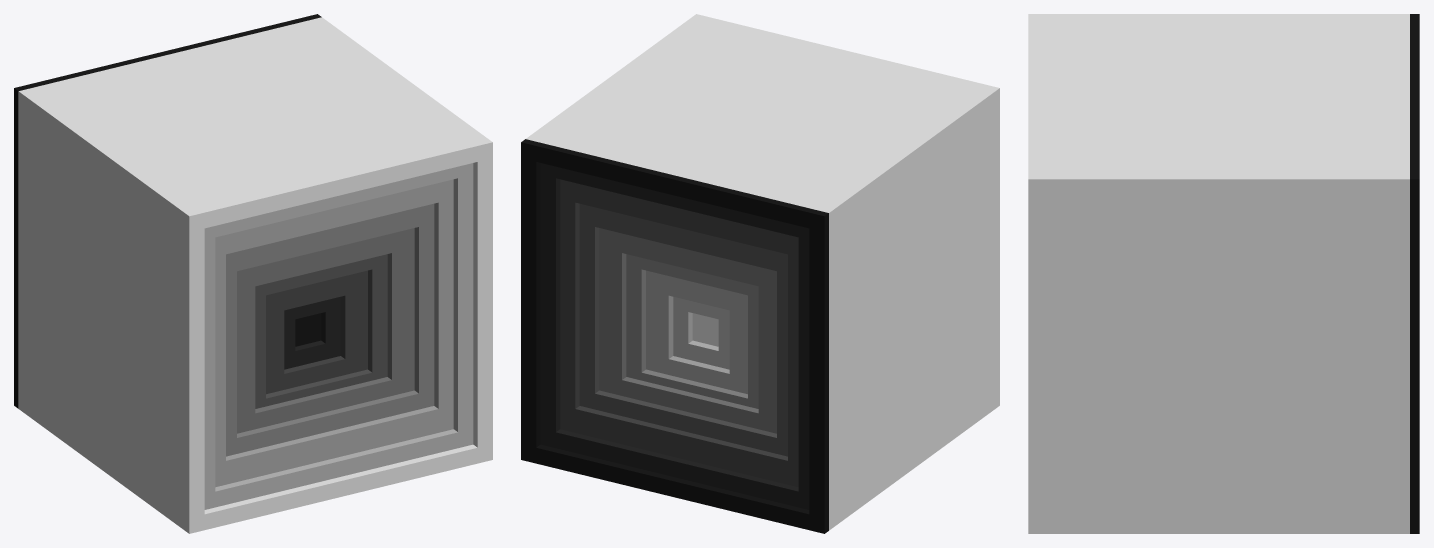
The model's file is MuroTrallao.FBX.
3 views of the same model, side by side, from view 1: azimuth 30°, elevation 25°; view 2: azimuth 150°, elevation 25°; view 3: azimuth 270°, elevation 25° (orthographic). The views are drawn at different scales.
Parts seen in each view (by area): view 1: MuroTrallao; view 2: MuroTrallao; view 3: MuroTrallao.
Part boxes in pixels (x1,y1,x2,y2): MuroTrallao: (14,14,492,533); MuroTrallao: (521,14,999,533); MuroTrallao: (1028,14,1419,533).
Bounding box in the file's own units: 1 × 1 × 1.
1 material, 1 textured.
